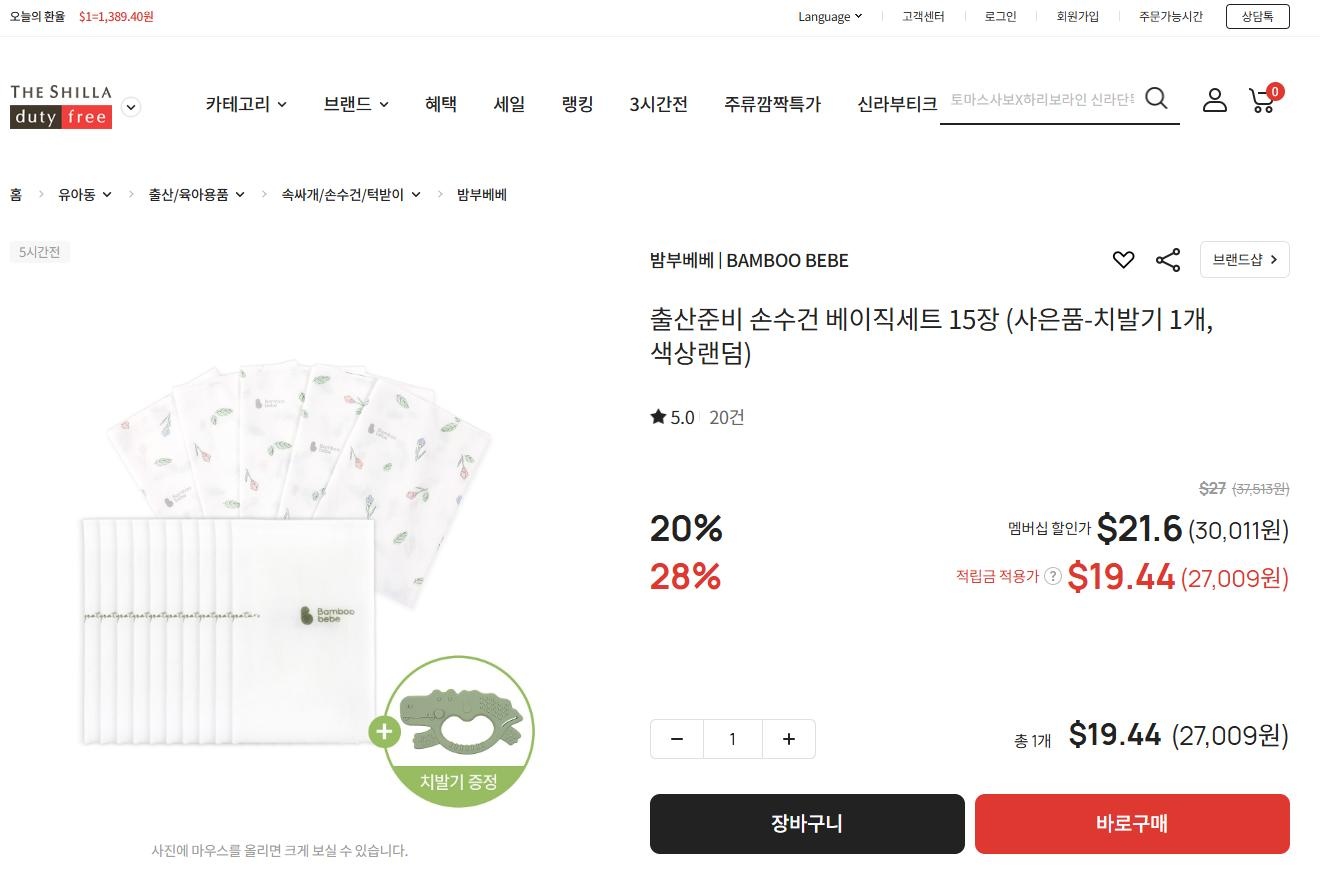button: (651, 791, 965, 856), (984, 795, 1288, 855), (718, 78, 829, 126), (1203, 242, 1304, 282), (858, 80, 940, 120), (628, 89, 708, 124), (763, 720, 821, 764), (643, 720, 699, 761), (1133, 4, 1206, 30), (1229, 0, 1290, 30), (976, 3, 1034, 34), (554, 96, 601, 133), (486, 89, 529, 129), (1146, 241, 1190, 280), (1248, 85, 1298, 119), (1195, 85, 1235, 126), (422, 88, 470, 122), (1098, 242, 1135, 285), (901, 0, 959, 26), (1051, 5, 1100, 34)
checkbox: (0, 66, 155, 143), (280, 179, 429, 215), (199, 81, 284, 134), (314, 89, 396, 133), (144, 178, 256, 210), (786, 0, 873, 31), (46, 180, 118, 209)
input_field: (935, 71, 1182, 131)
